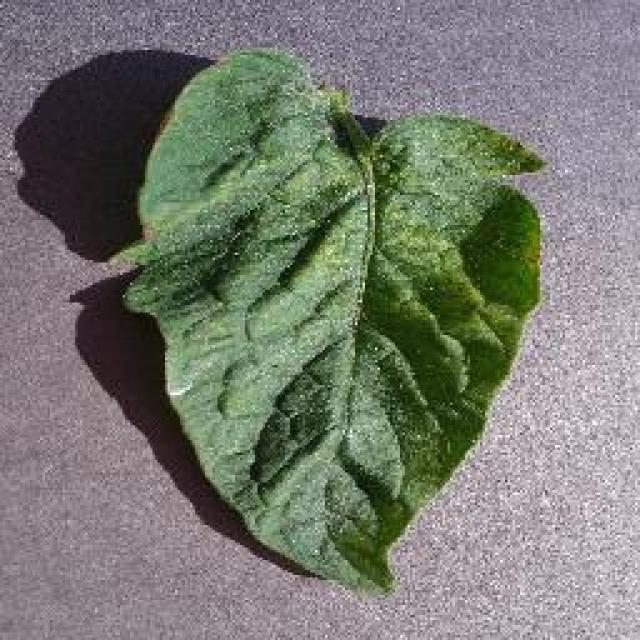Tomato___Spider_mites Two-spotted_spider_mite: (122, 50, 540, 588)
